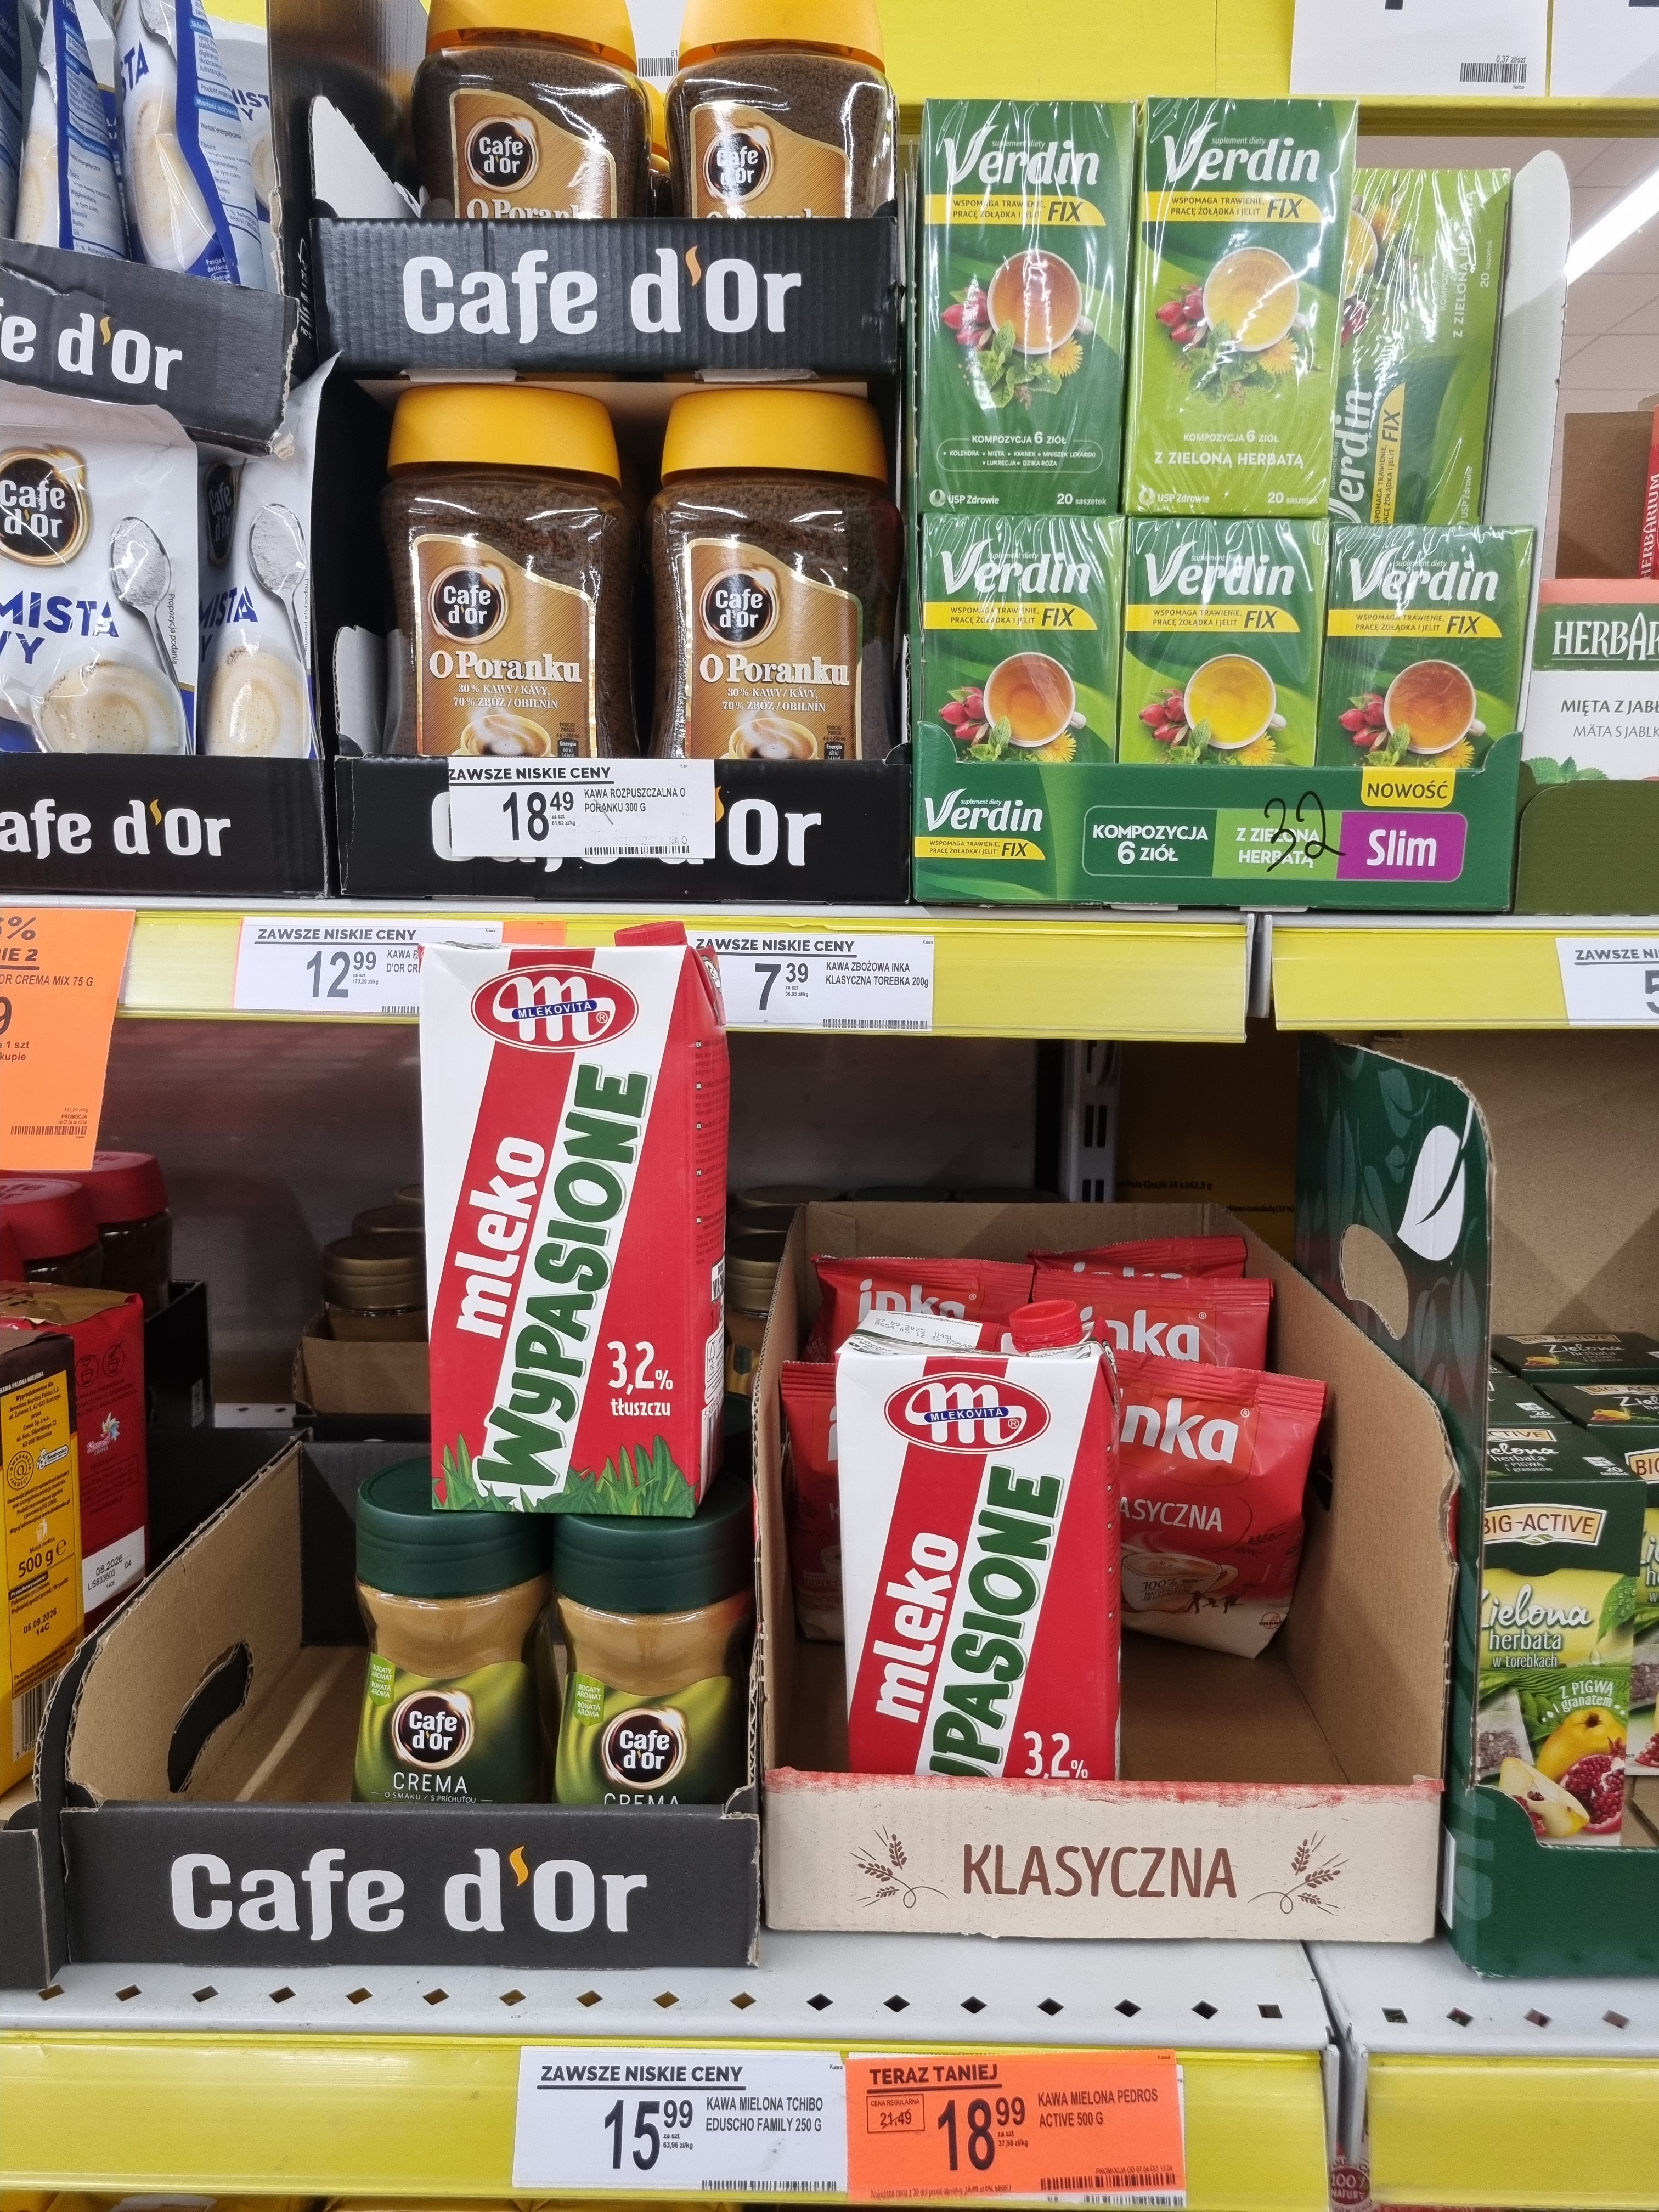Milk: (413, 935, 721, 1521), (831, 1298, 1127, 1794)
